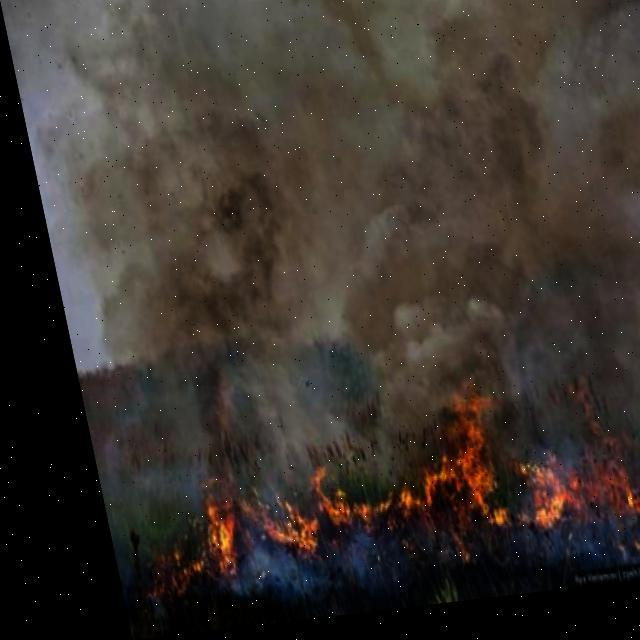Fire: (102, 380, 639, 591)
